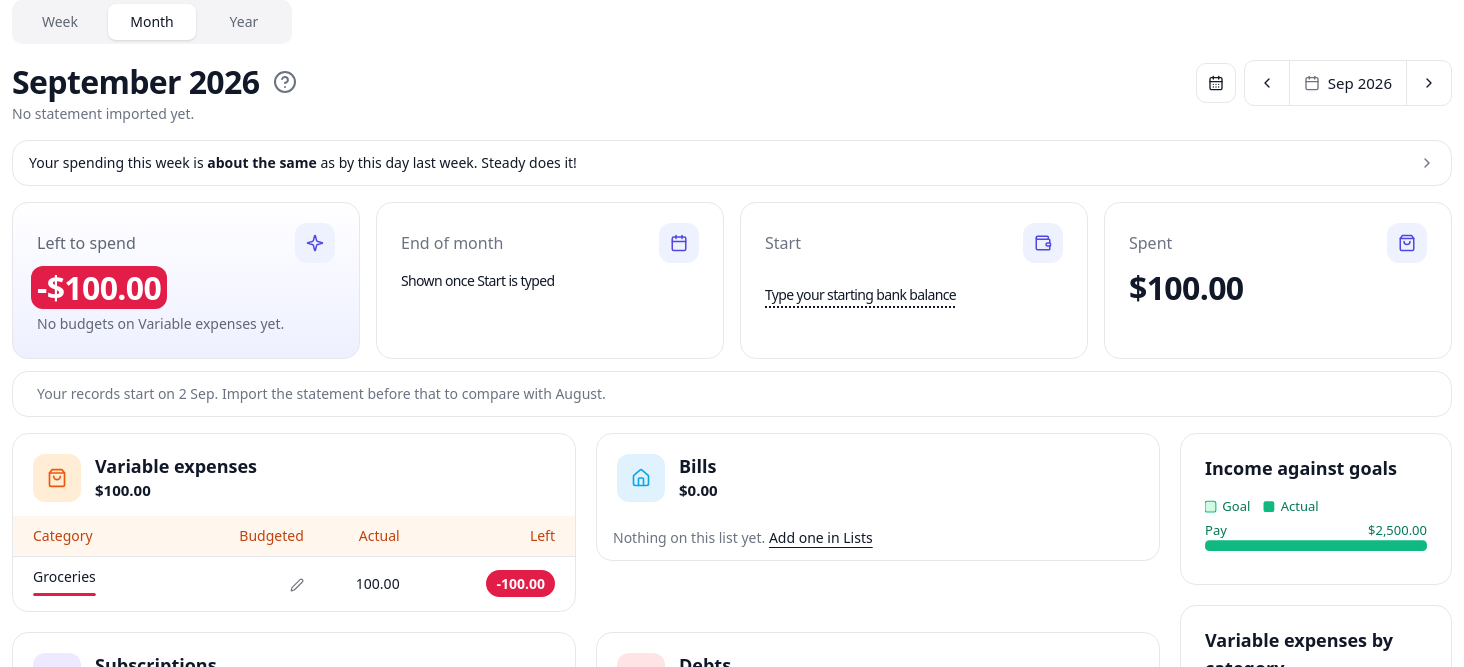
Test: Typing the starting balance on the Month › says so on the Month when a save is refused after another month opened, until its editor opens again
Click the button with aria-label "Starting balance for September, none typed": (860, 293) [765,281,956,304]
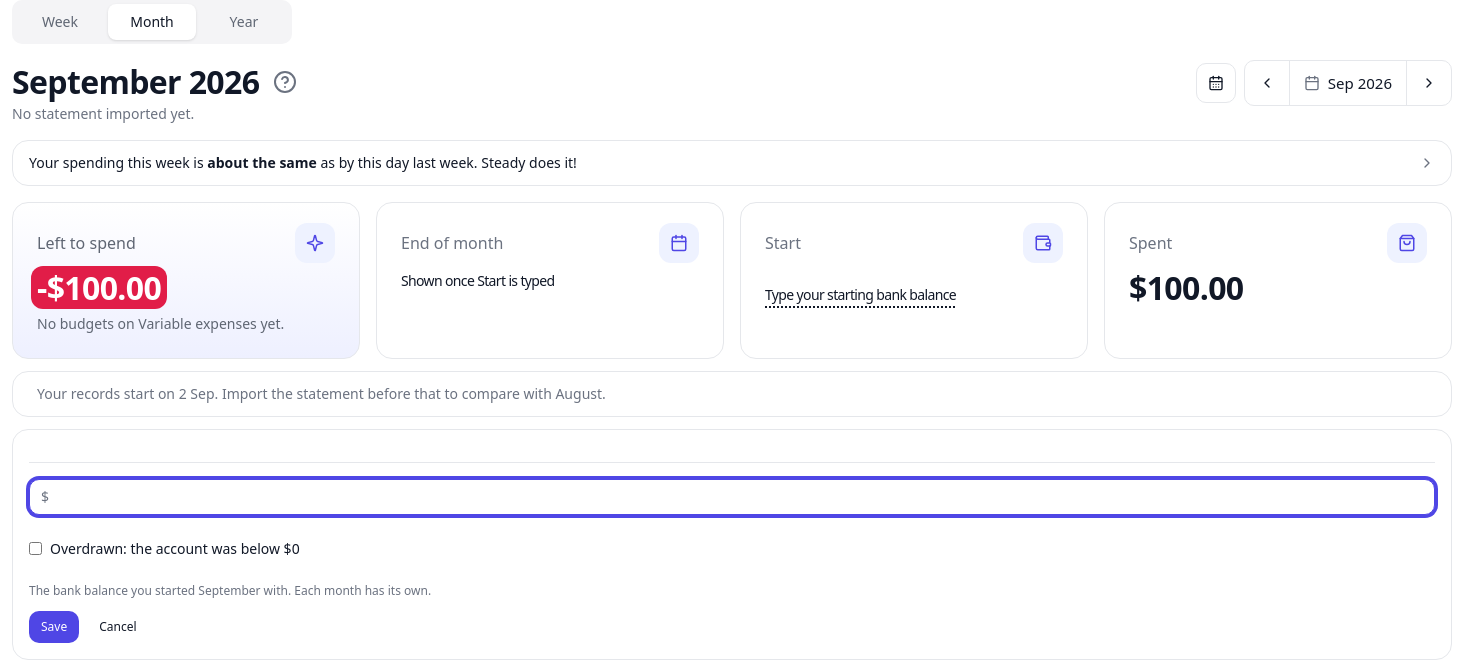
In the field named "Starting bank balance for September": (732, 497) [29,479,1435,515], type "100"
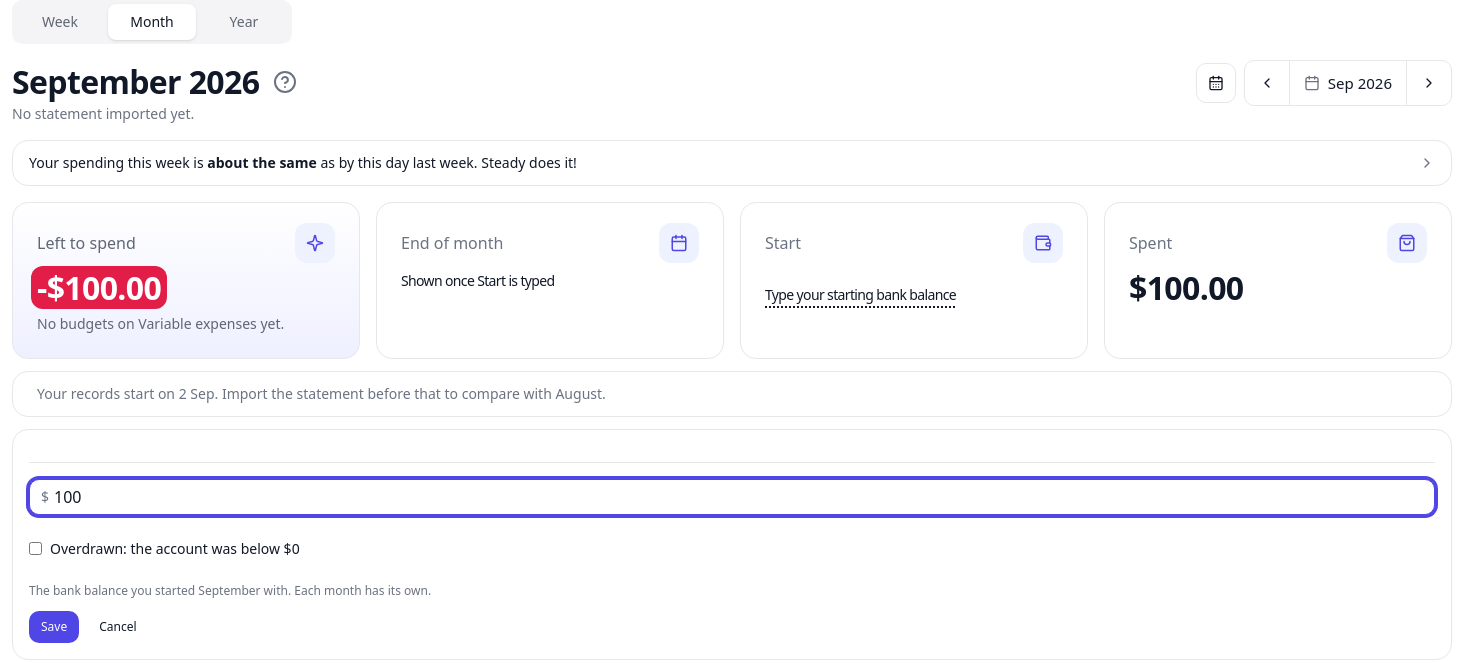
Click the button "Save": (54, 627) [29,611,79,643]
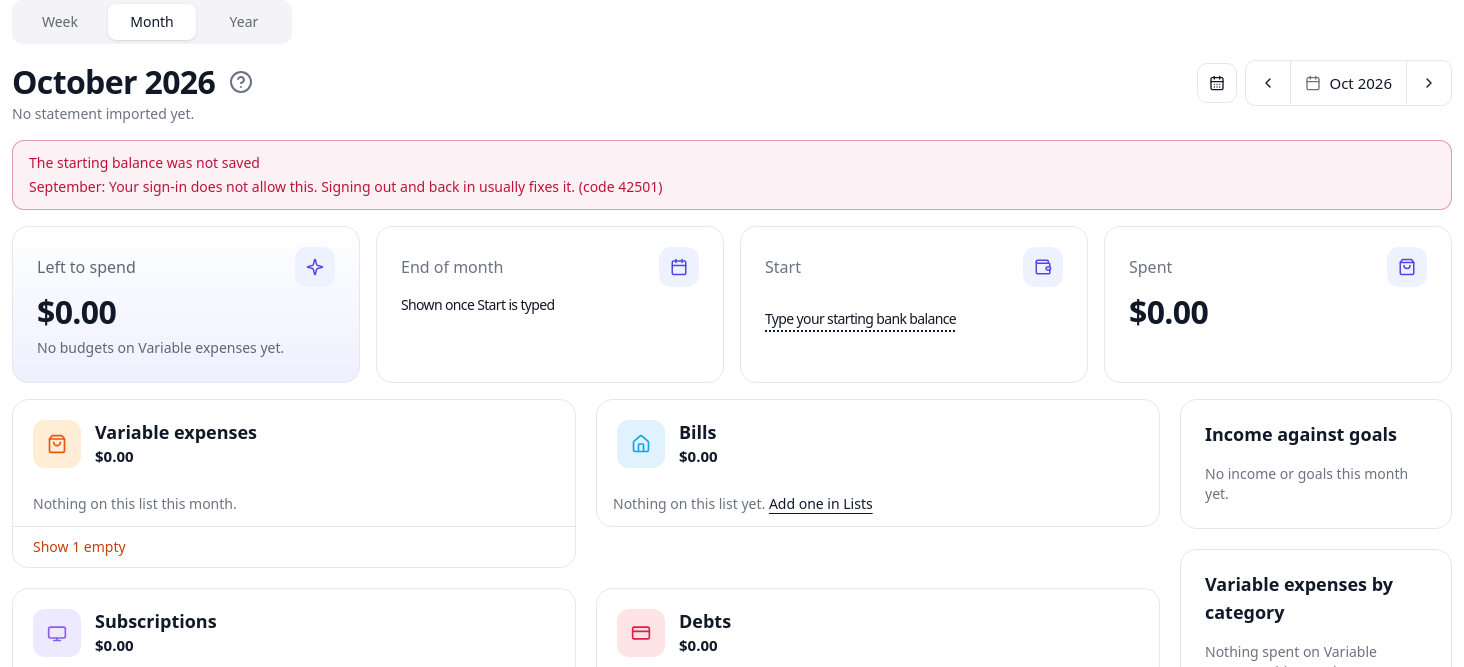
Result: the heading "October 2026" is shown at [12,62,215,102]
Click the button with aria-label "Starting balance for October, none typed": (860, 317) [765,305,956,328]
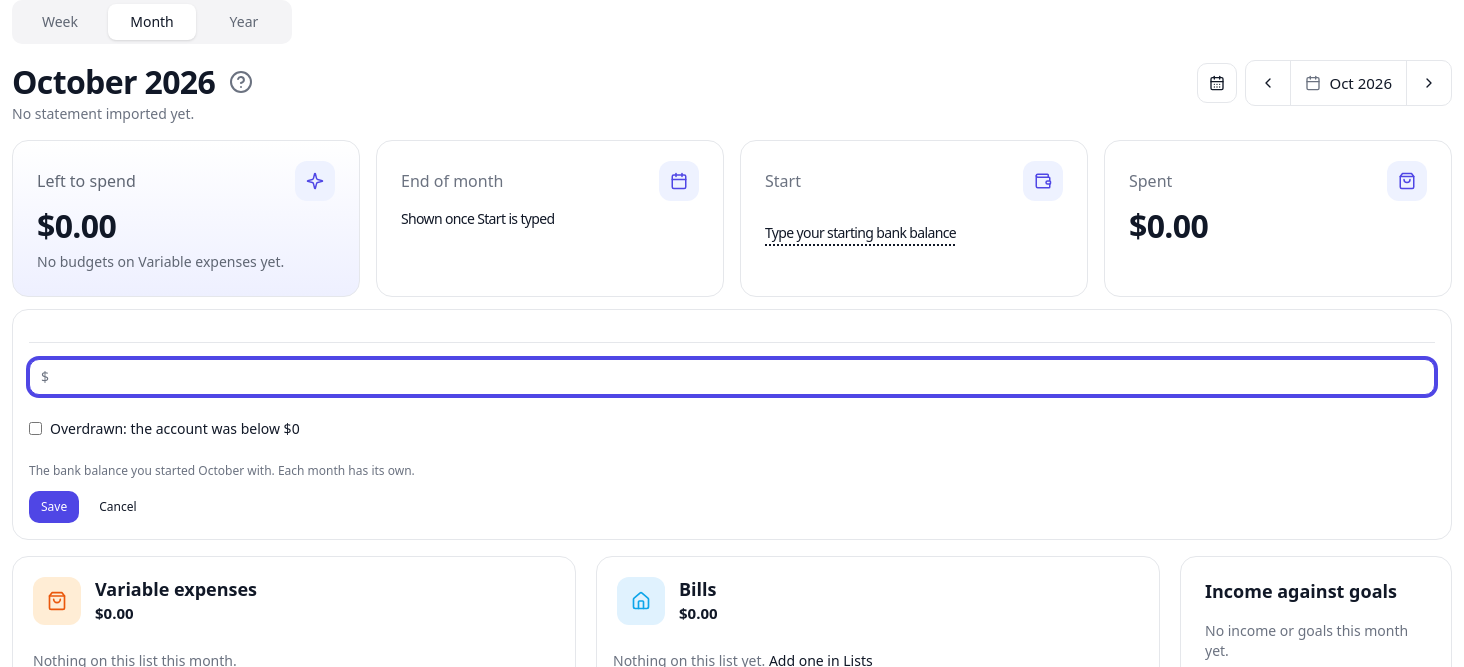
Result: the message "The starting balance was not saved September: Your sign-in does not allow this." is gone
